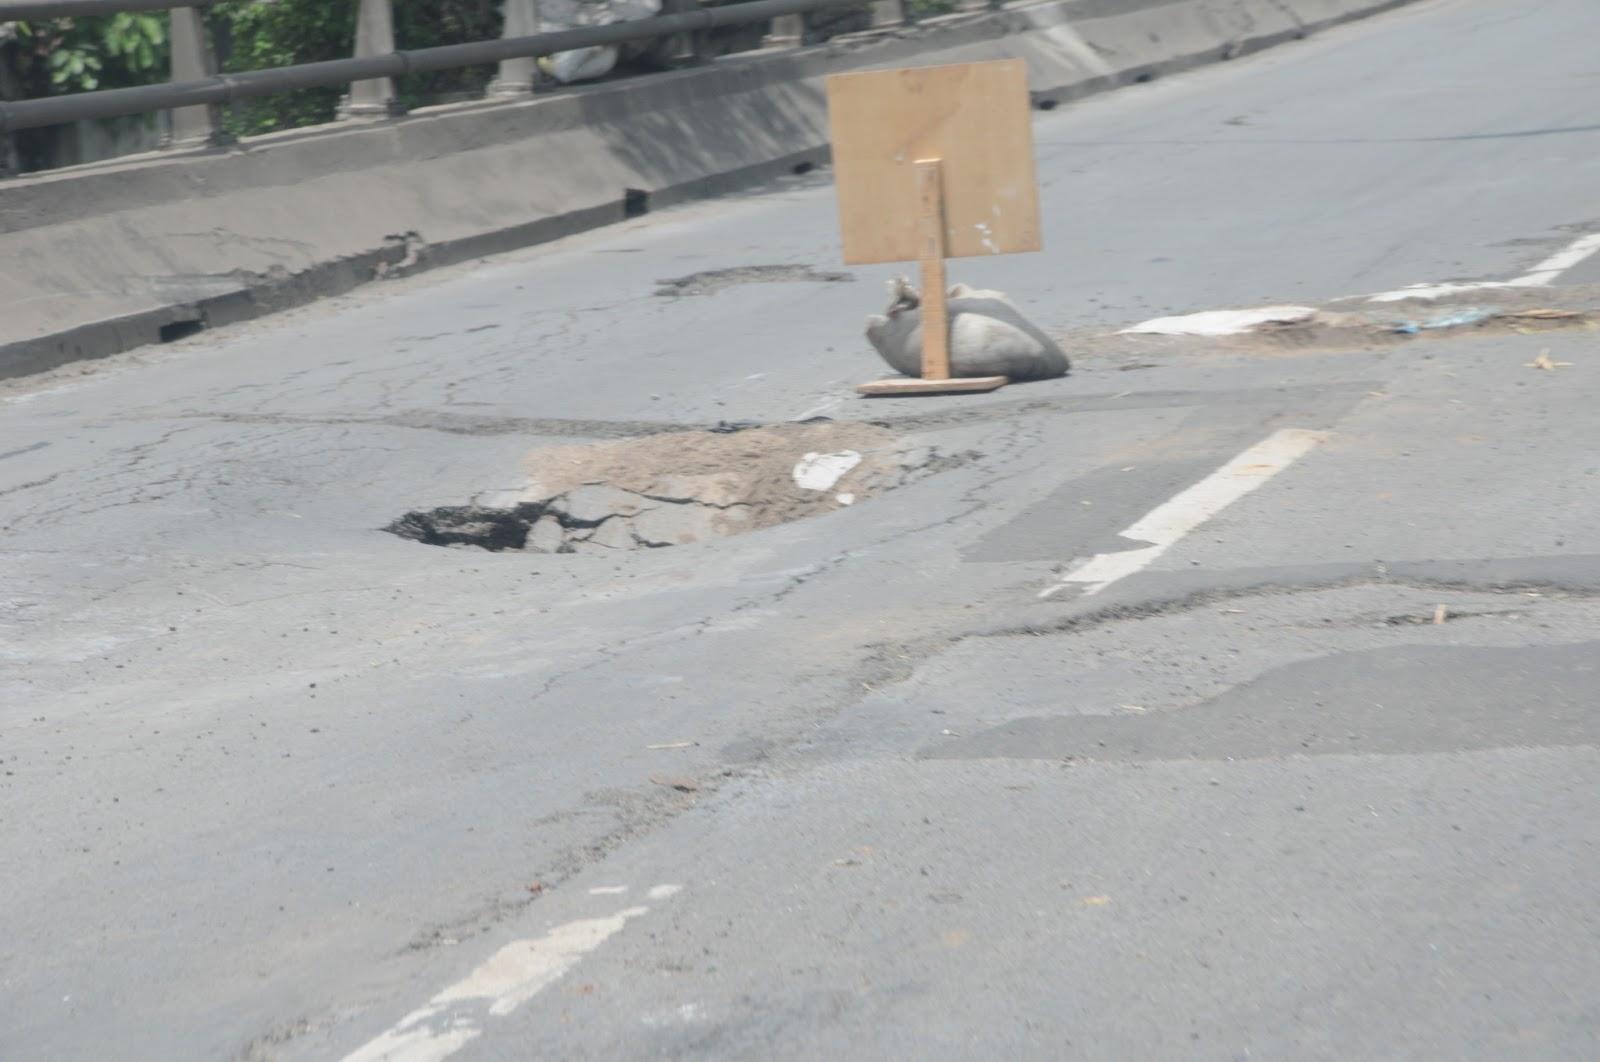Pothole: (348, 431, 919, 597), (641, 215, 855, 326)
